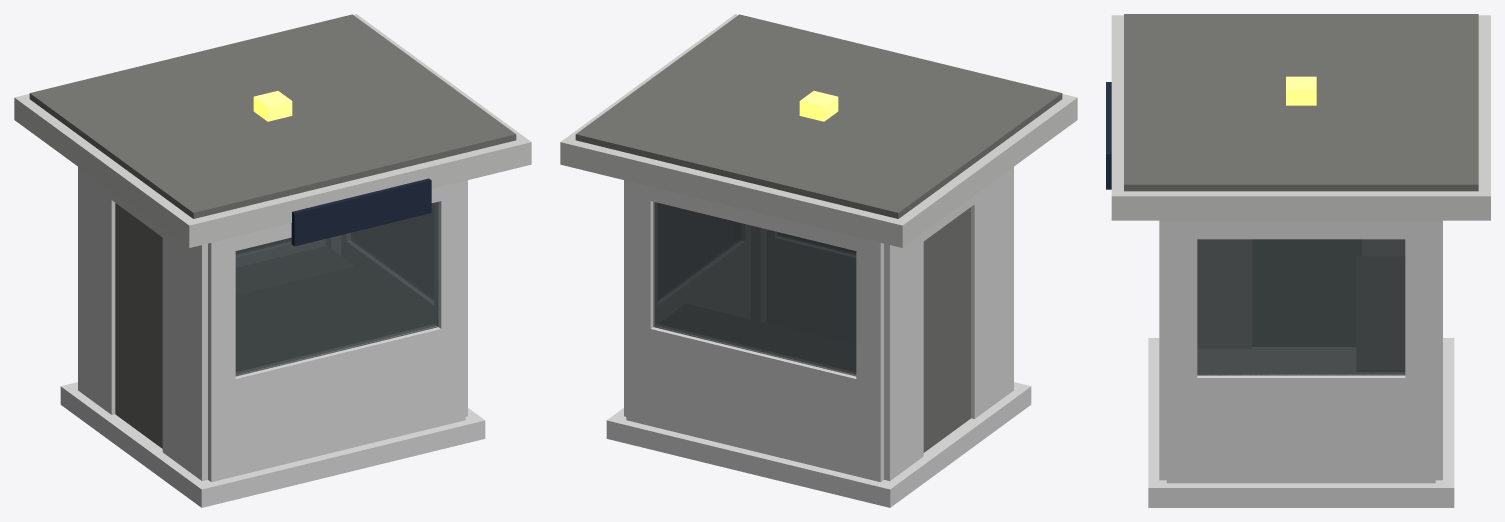
The model's file is grammy_booth.glb.
3 views of the same model, side by side, from view 1: azimuth 30°, elevation 25°; view 2: azimuth 150°, elevation 25°; view 3: azimuth 270°, elevation 25° (orthographic). The views are drawn at different scales.
Parts seen in each view (by area): view 1: desk.004, post.017, glass.094, roof.004, base.001, sign.001, lamp.004; view 2: desk.004, post.017, glass.094, roof.004, base.001, lamp.004; view 3: desk.004, post.017, glass.094, roof.004, base.001, lamp.004, sign.001.
Part boxes in pixels (<box>): desk.004: <box>29,14,516,448</box>; post.017: <box>78,167,467,481</box>; glass.094: <box>235,202,438,376</box>; roof.004: <box>14,14,531,247</box>; base.001: <box>60,382,485,507</box>; sign.001: <box>291,178,431,246</box>; lamp.004: <box>253,91,292,121</box>; desk.004: <box>575,14,1062,452</box>; post.017: <box>624,167,1013,481</box>; glass.094: <box>653,202,856,376</box>; roof.004: <box>560,14,1077,247</box>; base.001: <box>606,382,1031,507</box>; lamp.004: <box>799,91,838,121</box>; desk.004: <box>1124,14,1478,191</box>; post.017: <box>1159,220,1442,483</box>; glass.094: <box>1197,239,1405,375</box>; roof.004: <box>1111,15,1490,220</box>; base.001: <box>1148,338,1454,507</box>; lamp.004: <box>1286,76,1316,105</box>; sign.001: <box>1106,82,1111,189</box>.
Size of the model in its own units: 3.5 by 3.15 by 3.14.
